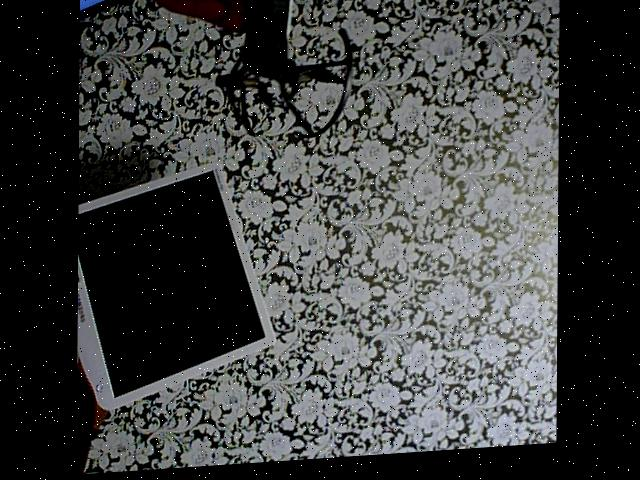drone: (197, 0, 387, 155)
